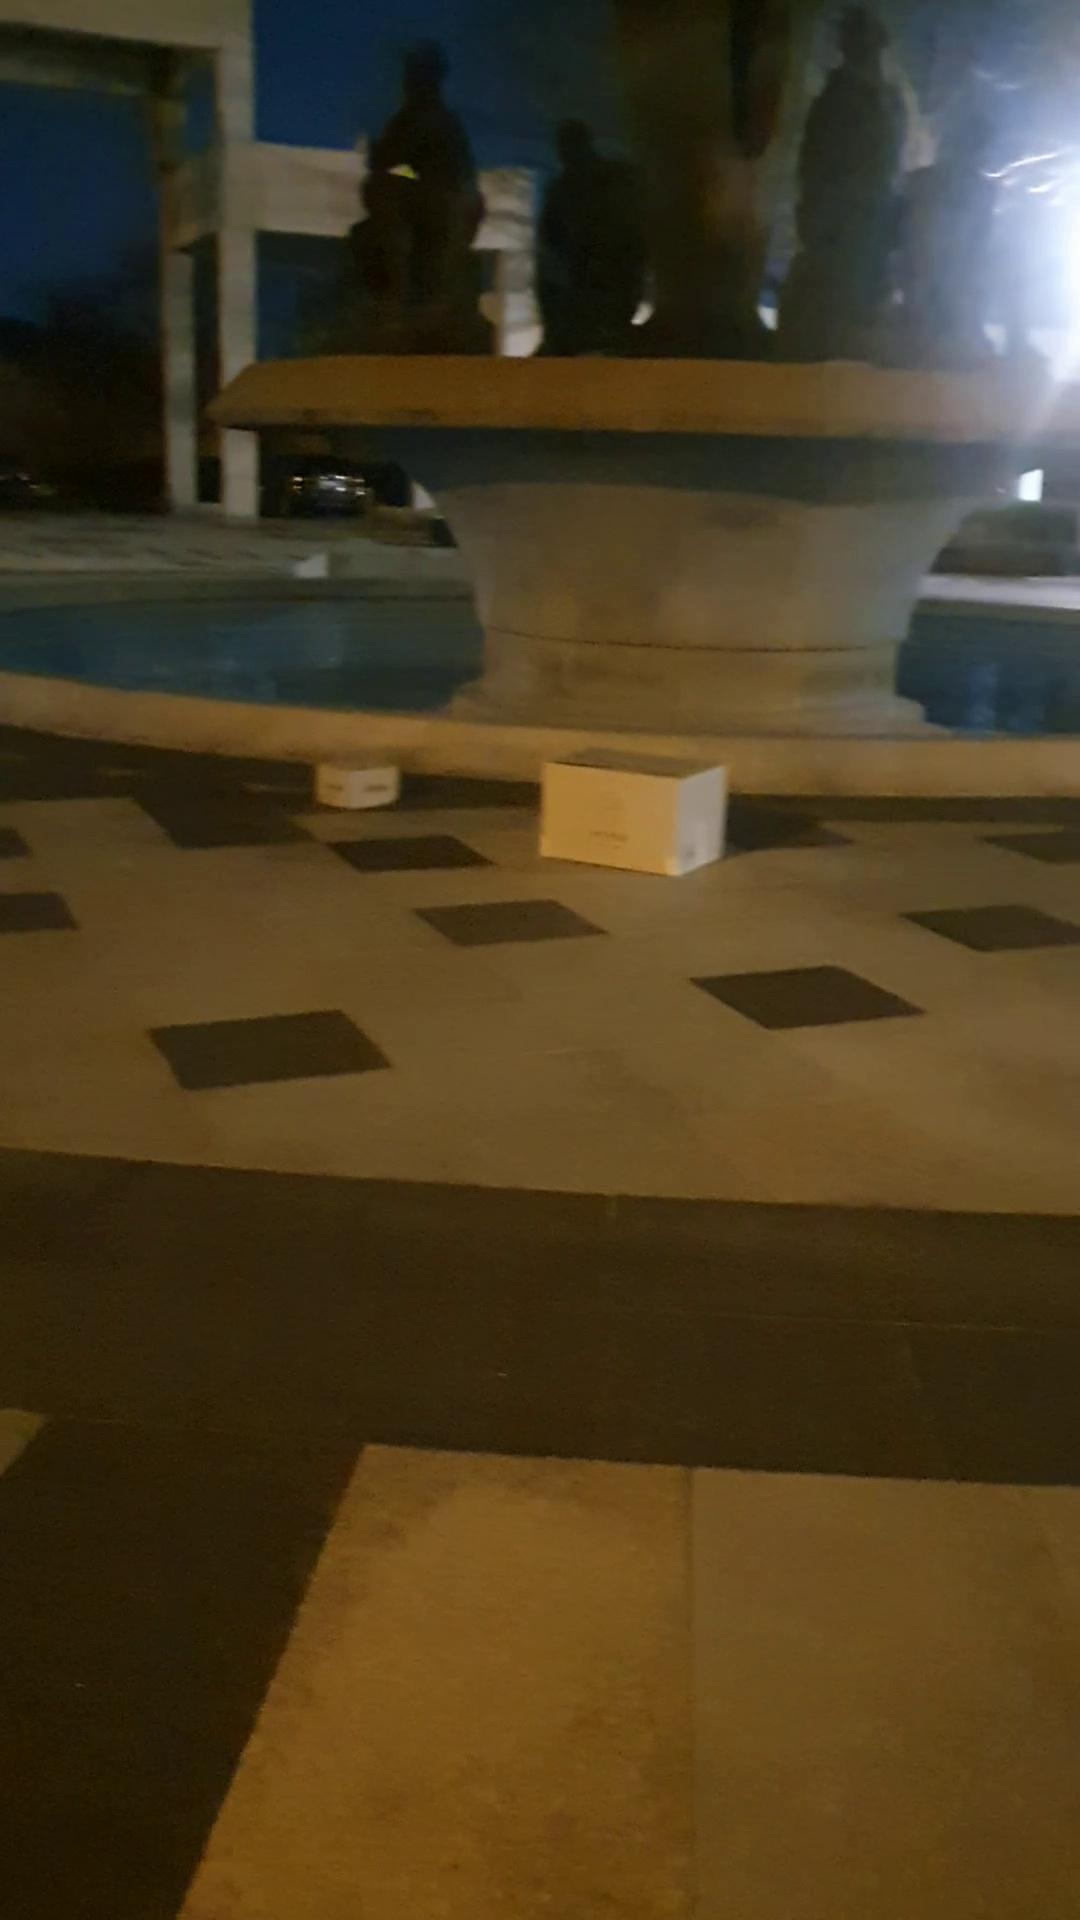Box: (541, 738, 737, 890), (303, 742, 407, 833)
